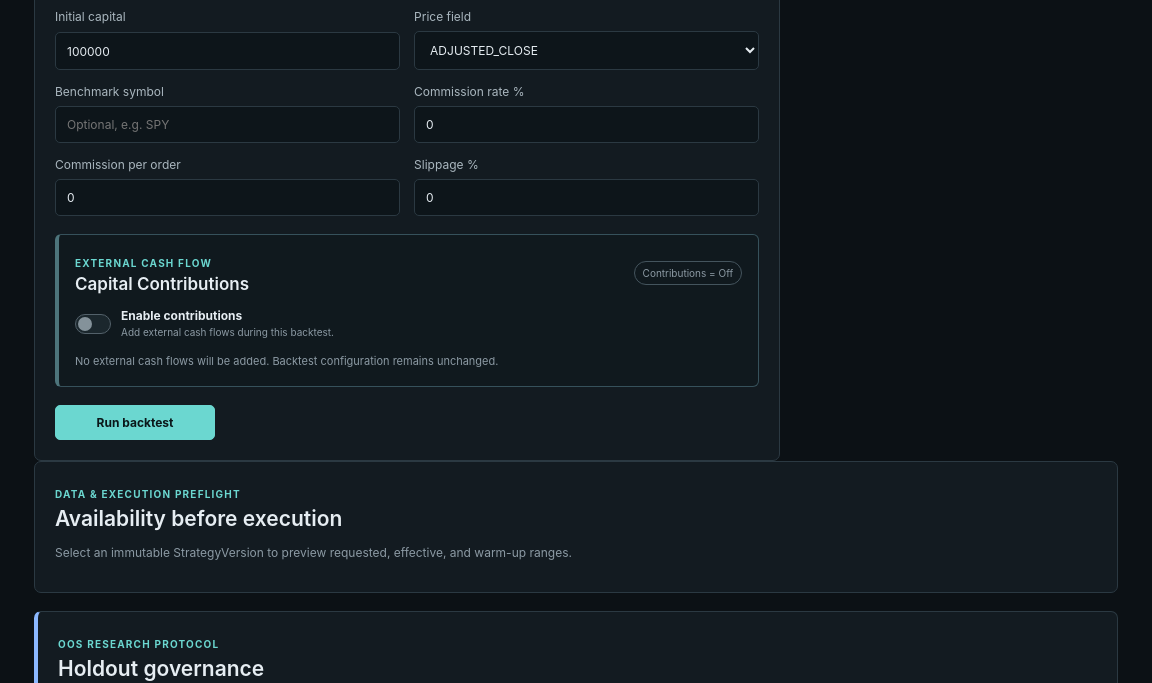
Test: Backtest Lab › submits monthly capital contributions and renders capital accounting
The width and height of the screenshot is (1152, 683).
(page scrolled)
Click the checkbox labelled "Enable contributions" at (204, 324), box x1=75 y1=308 x2=334 y2=339
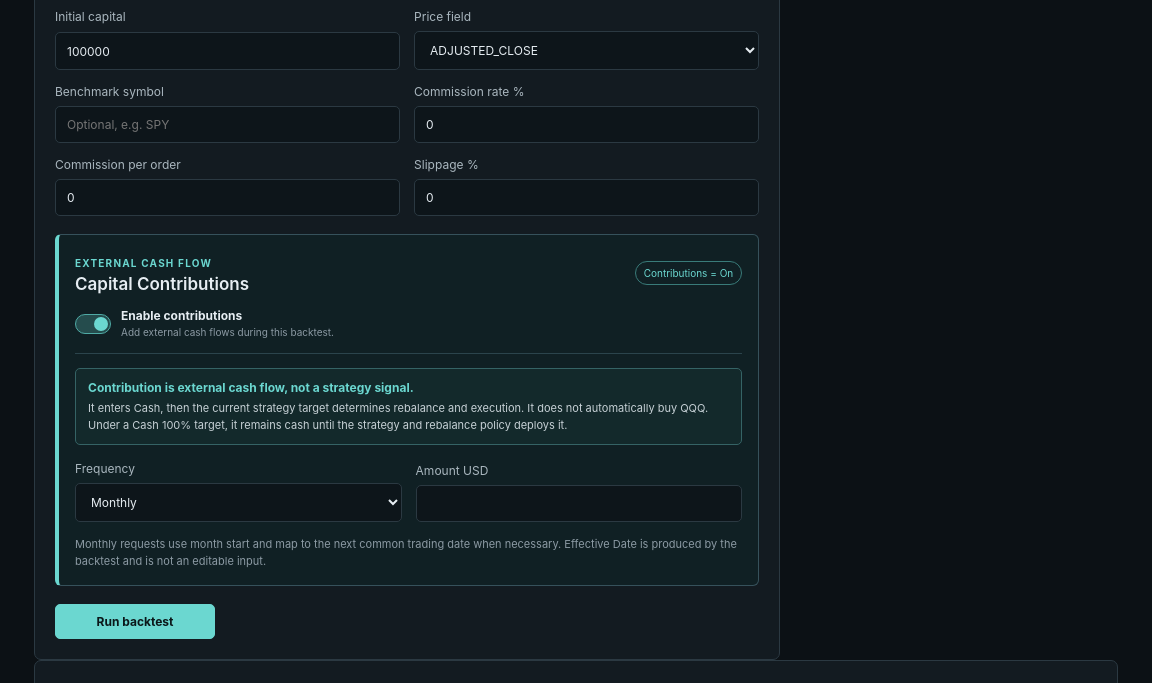
Now the text "Contributions = On" is shown, box x1=635 y1=260 x2=742 y2=284
Now the text "Contribution is external cash flow, not a strategy signal." is shown, box x1=88 y1=380 x2=414 y2=395
Now the text "Under a Cash 100% target, it remains cash" is shown, box x1=88 y1=401 x2=708 y2=432
Select "Monthly" in the dropdown named "Contribution frequency" at (238, 502), box x1=75 y1=483 x2=402 y2=522
Type "500" into the number field named "Contribution amount USD" at (579, 504), box x1=416 y1=485 x2=742 y2=522
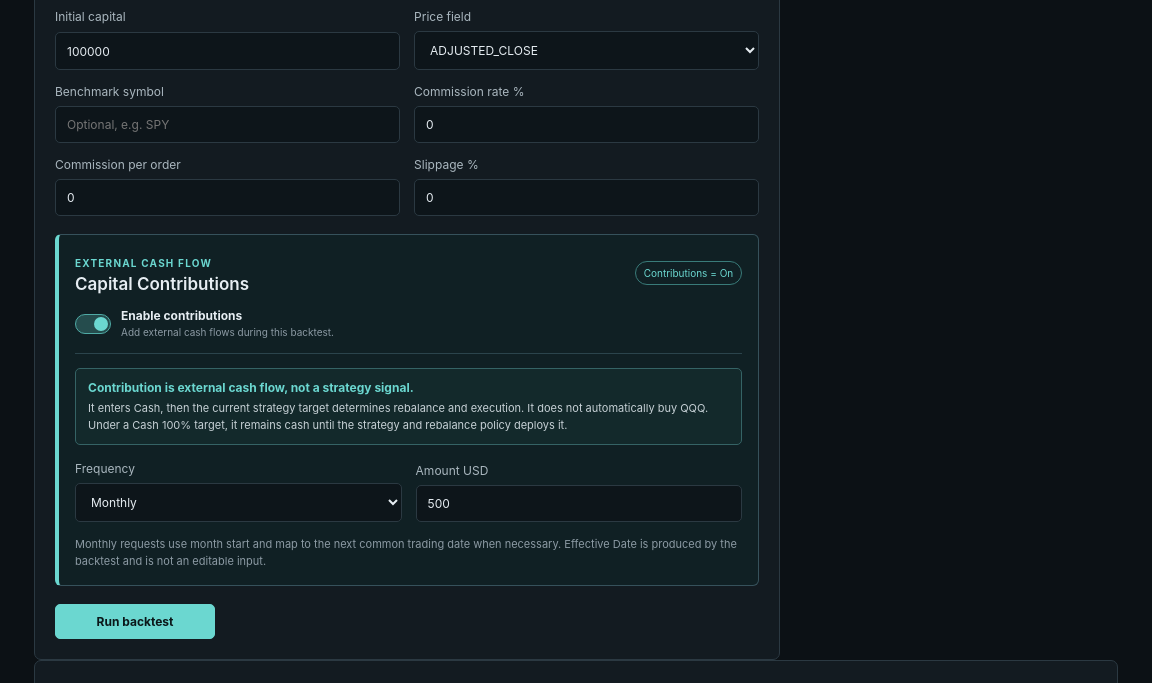
Now the text "Monthly requests use month start and map to the next common trading date" is shown, box x1=75 y1=537 x2=561 y2=551
Now the text "Effective Date is produced by the backtest and is not an editable input" is shown, box x1=75 y1=537 x2=737 y2=568
Click the button "Run backtest" at (135, 622), box x1=55 y1=604 x2=215 y2=639
(page scrolled)
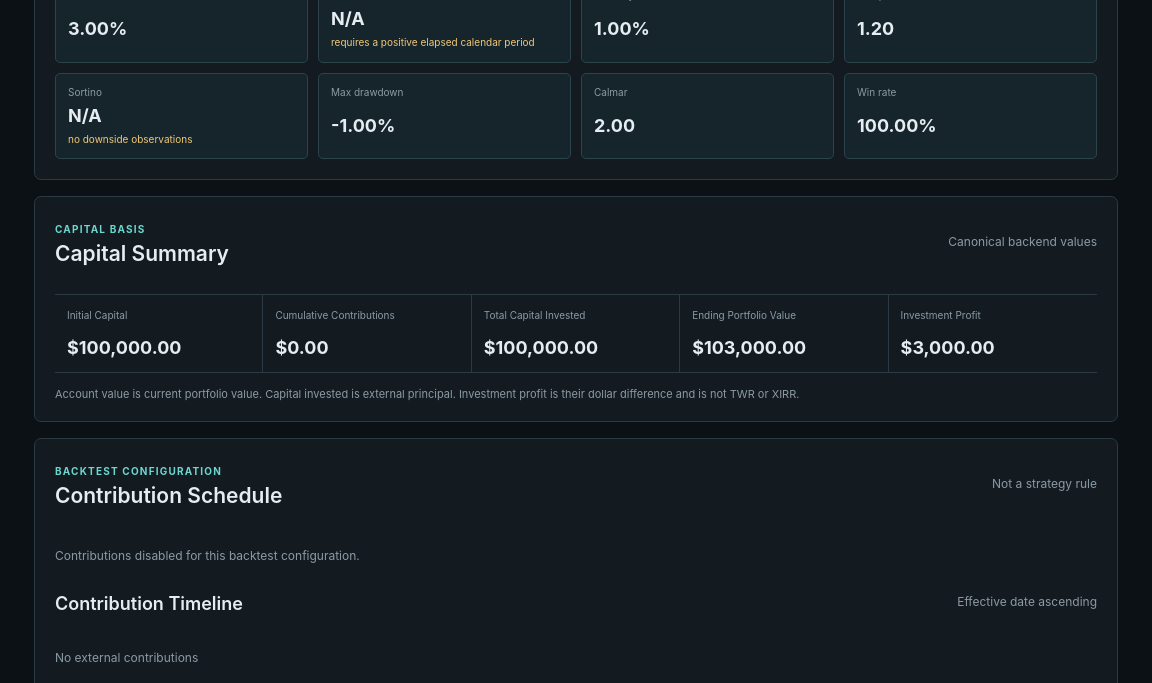
Now the heading "Capital Summary" is shown, box x1=55 y1=241 x2=229 y2=266
Now the text "Cumulative Contributions" is shown, box x1=275 y1=309 x2=395 y2=321
Now the text "Investment Profit" is shown, box x1=901 y1=309 x2=981 y2=321
